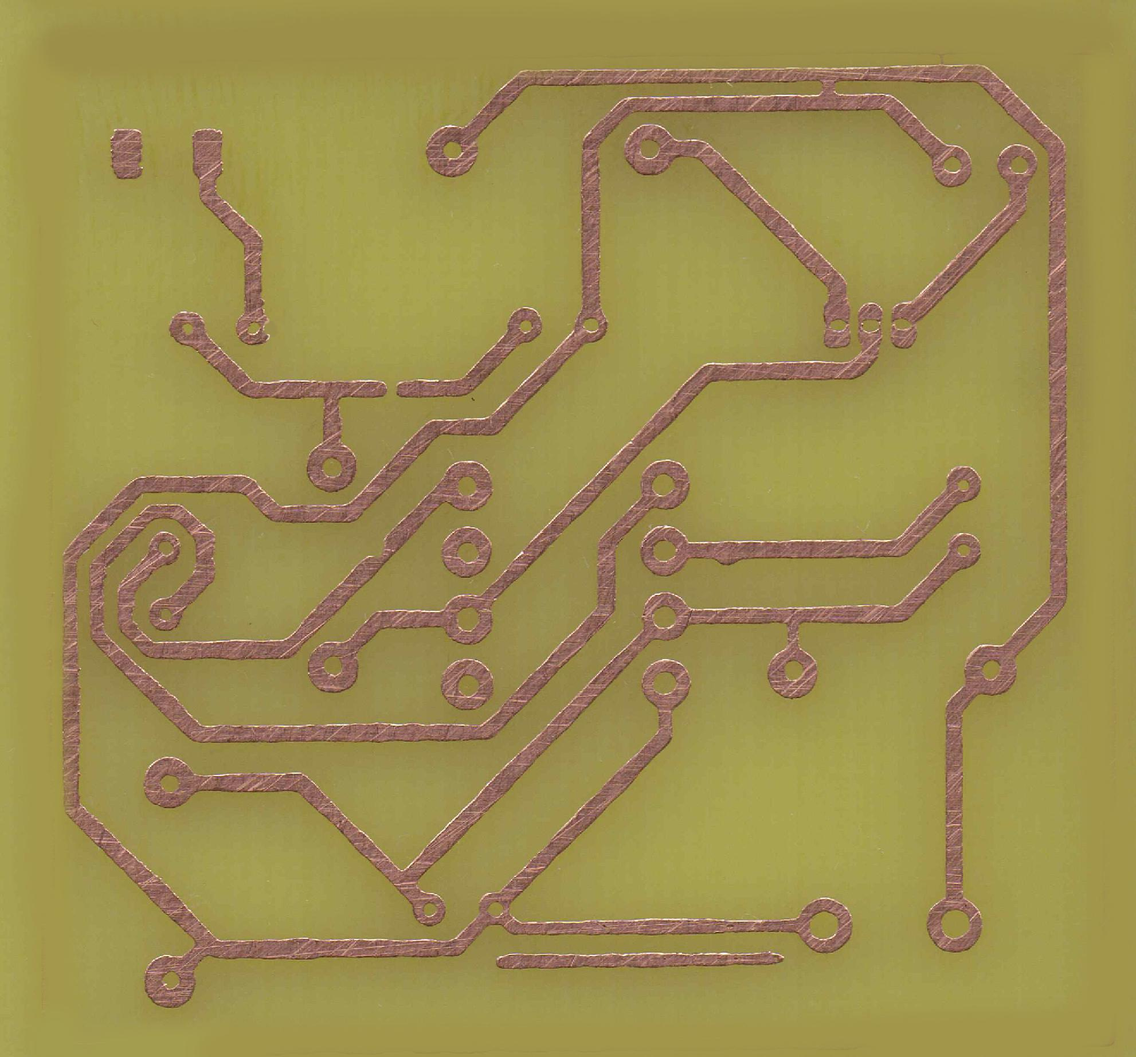missing_hole: (234, 314, 274, 344)
mouse_bite: (361, 532, 398, 566)
open_circuit: (374, 374, 409, 401)
short: (815, 61, 846, 117)
spur: (711, 534, 746, 571)
spurious_copper: (487, 946, 790, 976)
